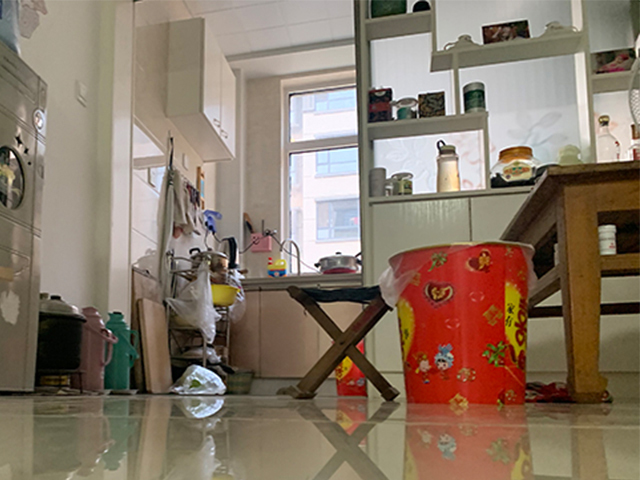cabinet: (359, 194, 572, 393), (233, 276, 367, 396)
stool: (285, 284, 401, 401)
table: (502, 159, 640, 403)
trashcan: (388, 240, 534, 406), (333, 337, 366, 398)
